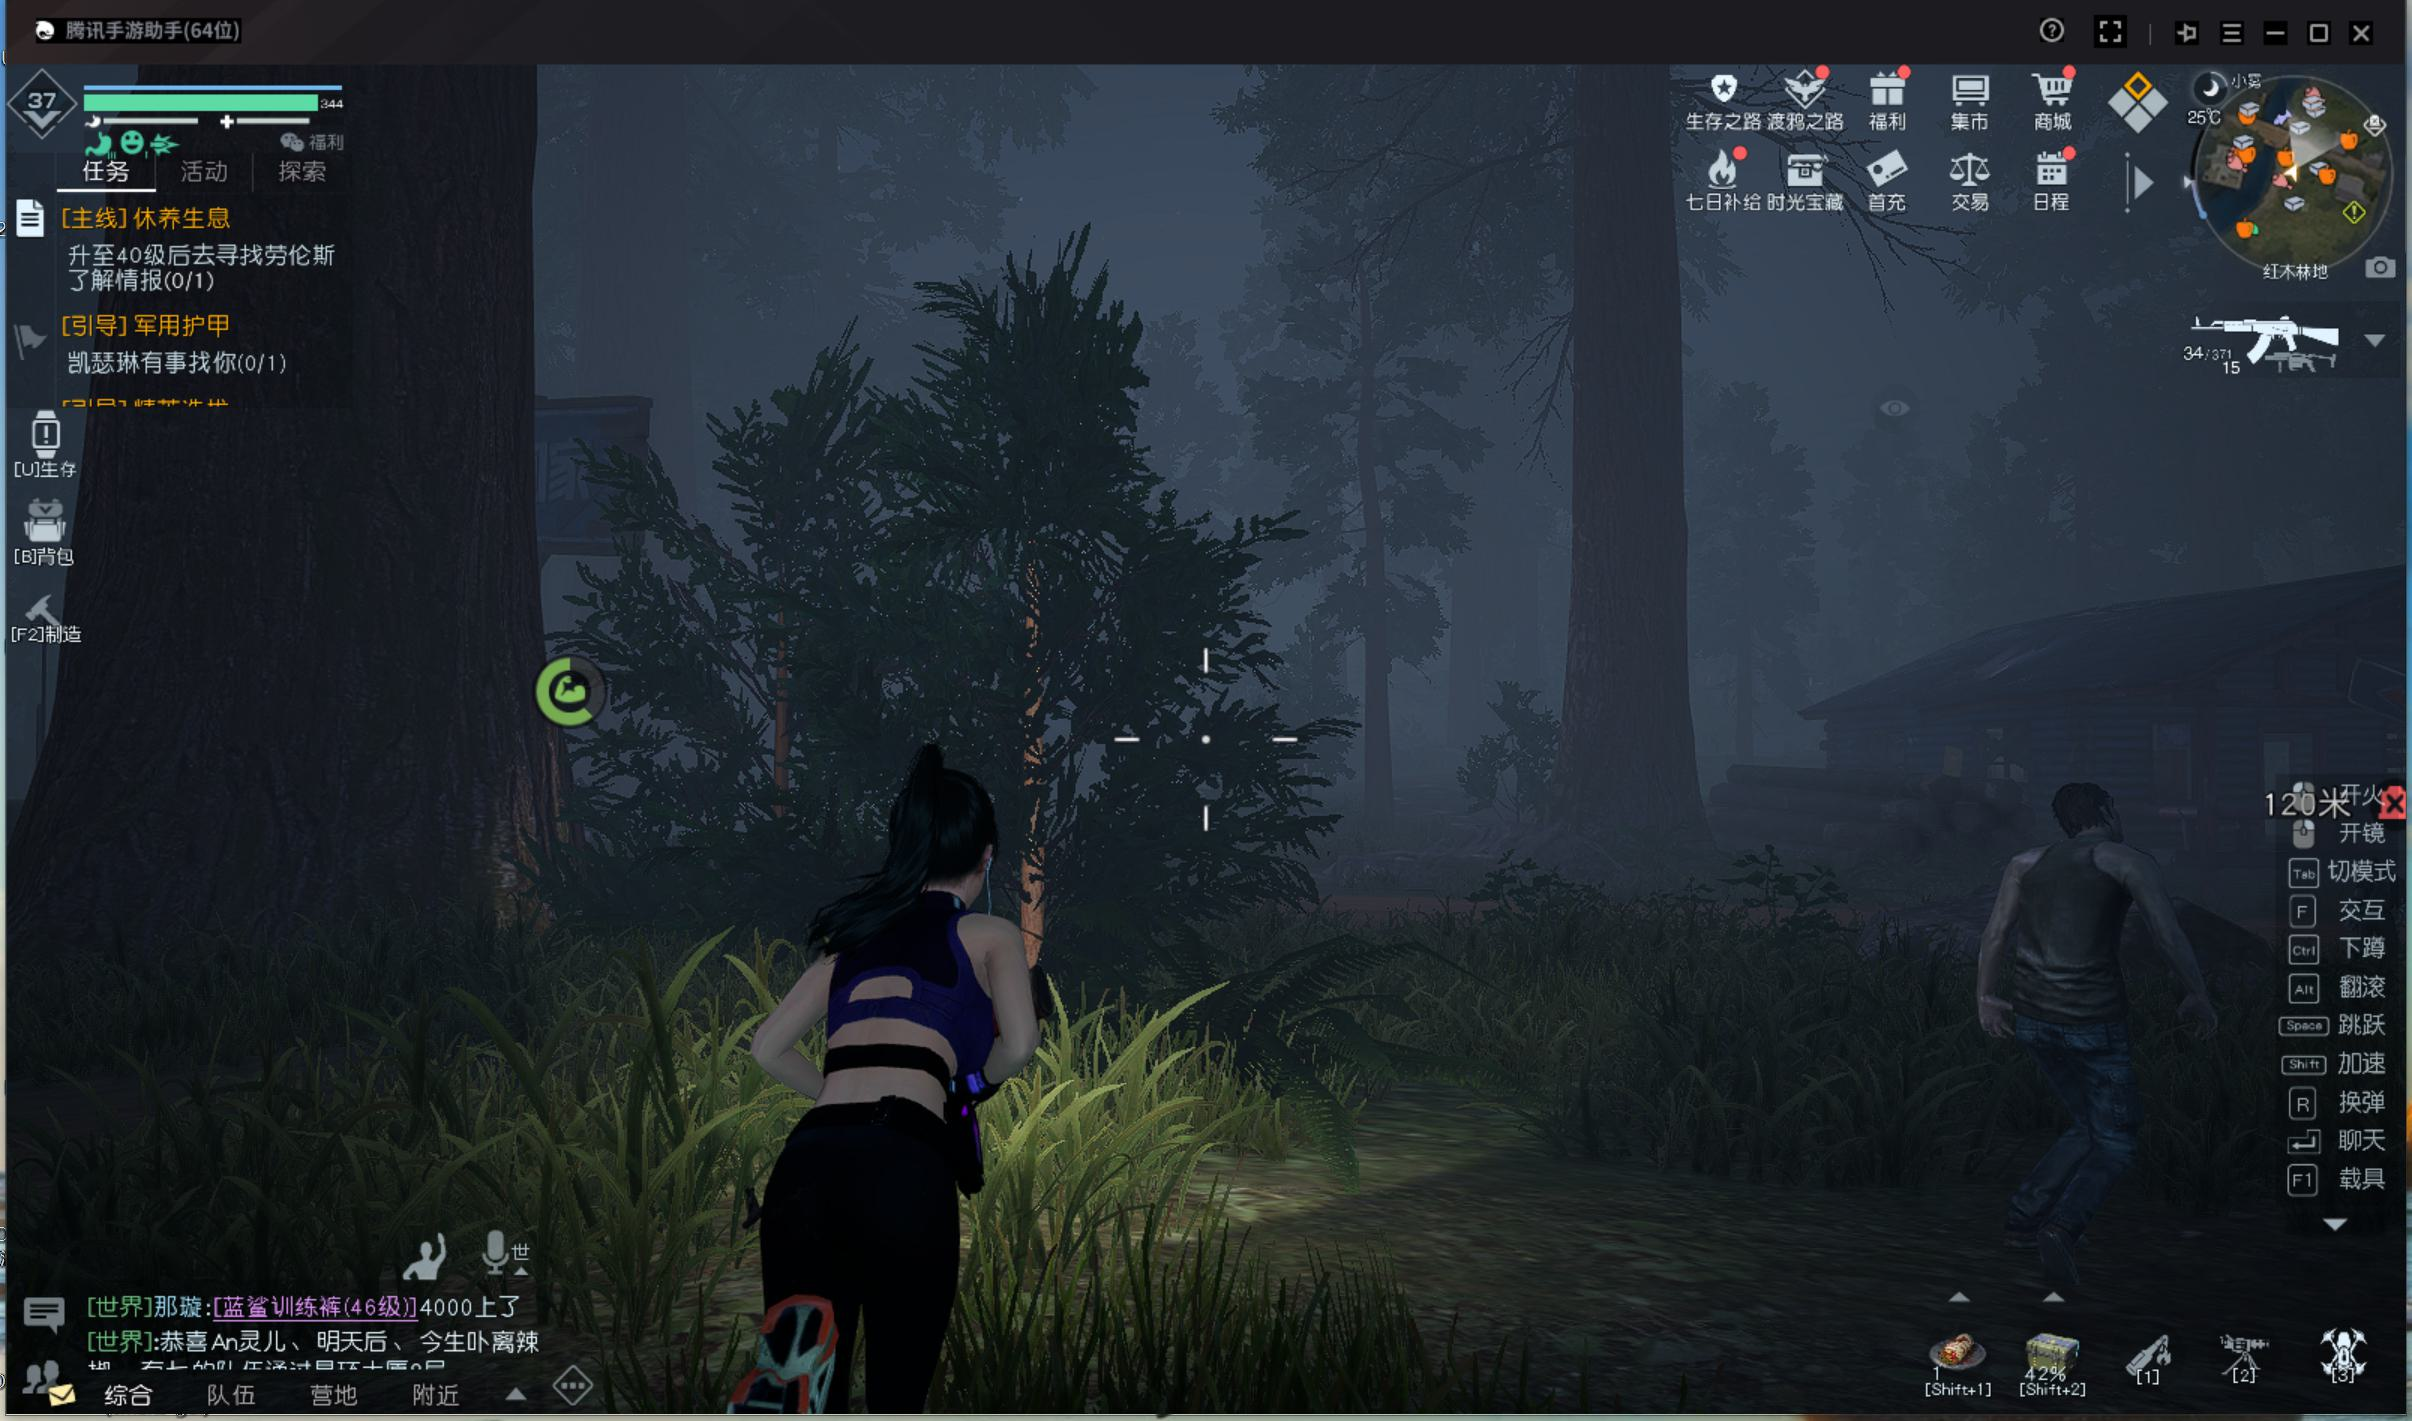tree: (1532, 217, 1725, 895), (1341, 342, 1399, 837)
